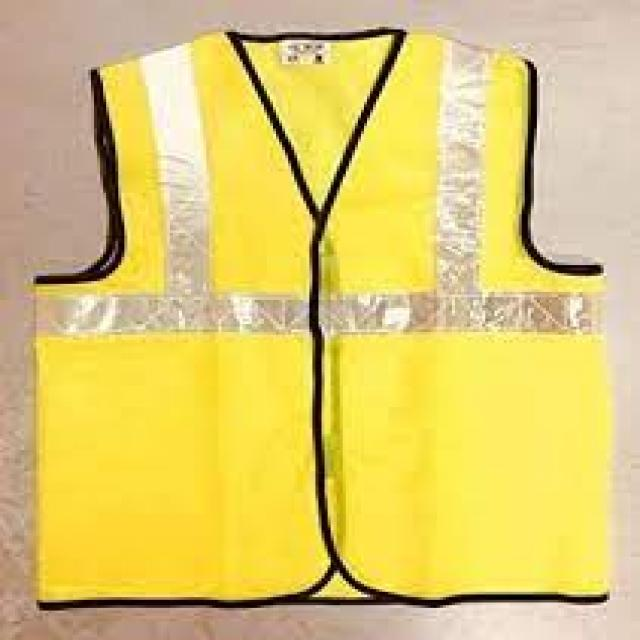Reflective-Jacket: (0, 8, 628, 637)
